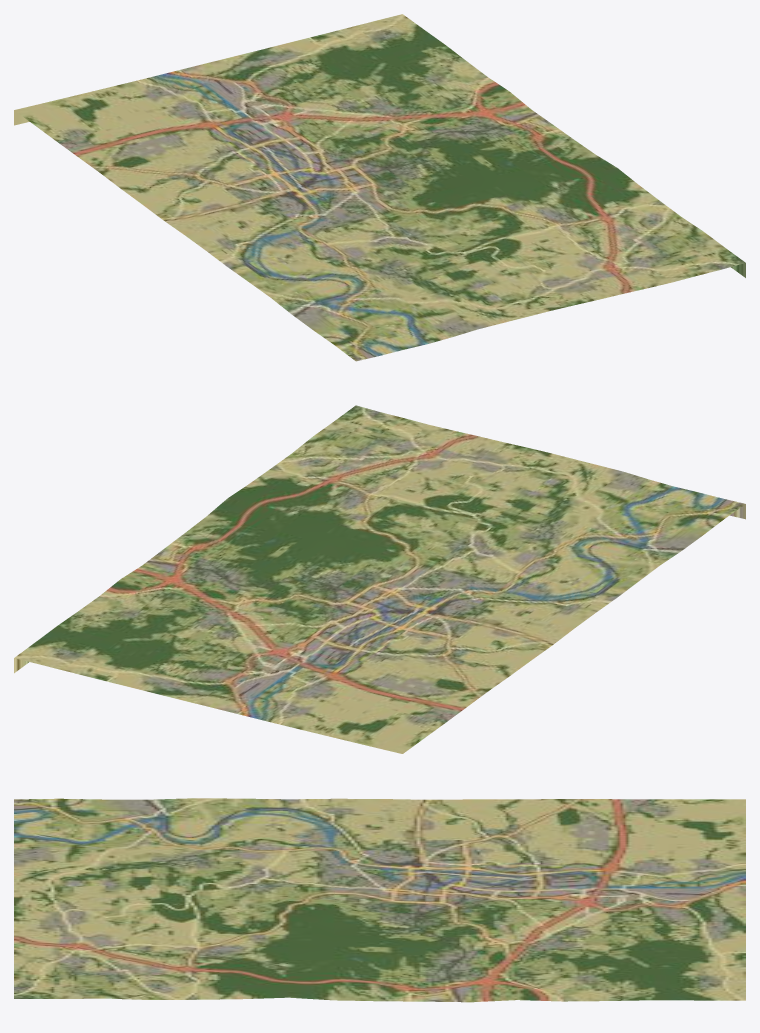
3 renders of one model, top to bottom at view 1: azimuth 30°, elevation 25°; view 2: azimuth 150°, elevation 25°; view 3: azimuth 270°, elevation 25°, orthographic. The views are drawn at different scales.
Bounding box in the file's own units: 12852 × 658 × 19554.
1 material, 1 textured.
